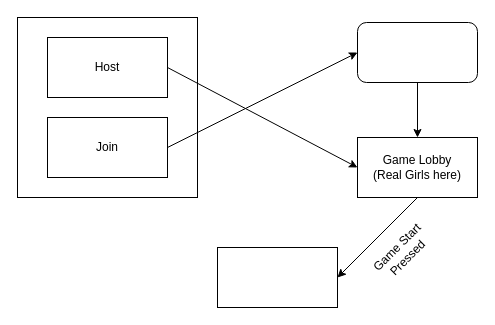
The diagram is 495 pixels wide and 325 high, and some of its shapes have lost their labels. Here are the shapes that lost their labels. From the top down, the centre of each, then its label:
the point at 417,52: Lobbies
the point at 277,277: Game (Real)
